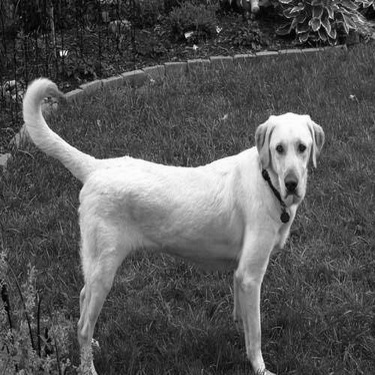dog: (16, 67, 329, 371)
